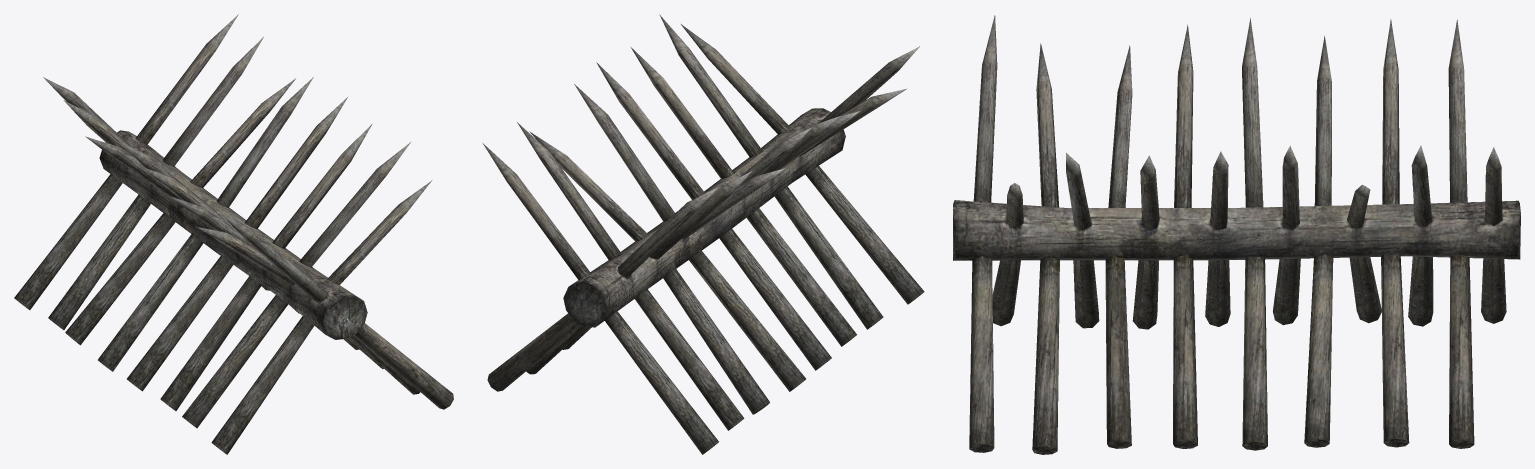
Rendered from Trap_WoodenSpike..obj.
3 views of the same model, side by side, from view 1: azimuth 30°, elevation 25°; view 2: azimuth 150°, elevation 25°; view 3: azimuth 270°, elevation 25° (orthographic). The views are drawn at different scales.
Parts seen in each view (by area): view 1: Trap_WoodenSpike.mo_Trap_WoodenSpike.md; view 2: Trap_WoodenSpike.mo_Trap_WoodenSpike.md; view 3: Trap_WoodenSpike.mo_Trap_WoodenSpike.md.
Part boxes in pixels (<box>): Trap_WoodenSpike.mo_Trap_WoodenSpike.md: <box>14,14,453,454</box>; Trap_WoodenSpike.mo_Trap_WoodenSpike.md: <box>483,14,924,454</box>; Trap_WoodenSpike.mo_Trap_WoodenSpike.md: <box>953,15,1520,454</box>.
Bounding box in the file's own units: 153 × 155 × 256.
Materials: 1 (1 with a texture image).
